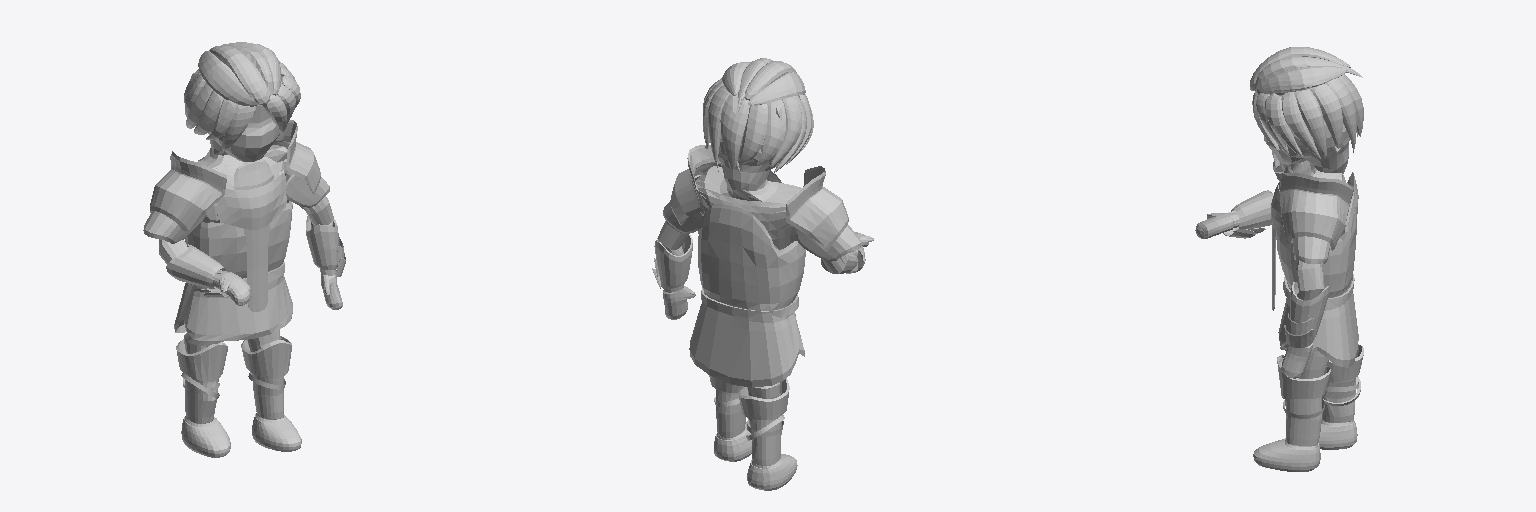
File: Warrior.obj
The picture shows the model from 3 angles: view 1: azimuth 30°, elevation 25°; view 2: azimuth 150°, elevation 25°; view 3: azimuth 270°, elevation 25°; orthographic projection.
Parts seen in each view (by area): view 1: polySurface183; view 2: polySurface183; view 3: polySurface183.
Boxes of the visible parts, x1,y1,x2,y2 form: polySurface183: [143, 42, 344, 457]; polySurface183: [653, 58, 873, 490]; polySurface183: [1195, 47, 1363, 471].
Size of the model in its own units: 7.05 by 13.43 by 5.11.